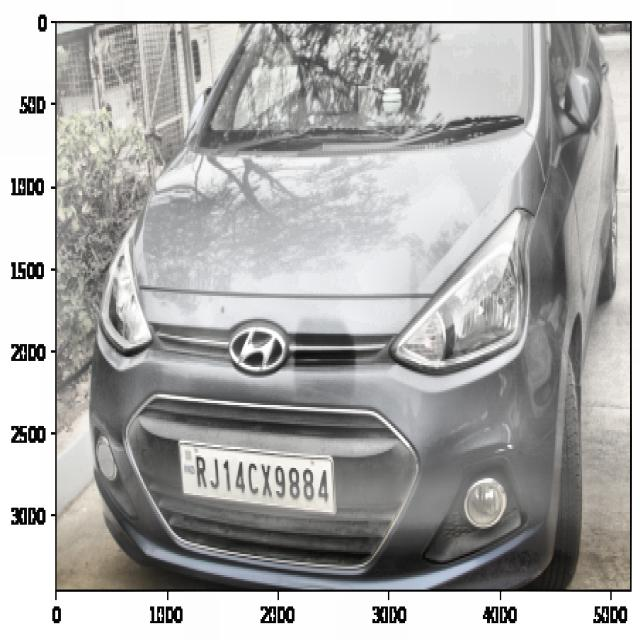license_plate: (188, 441, 334, 512)
